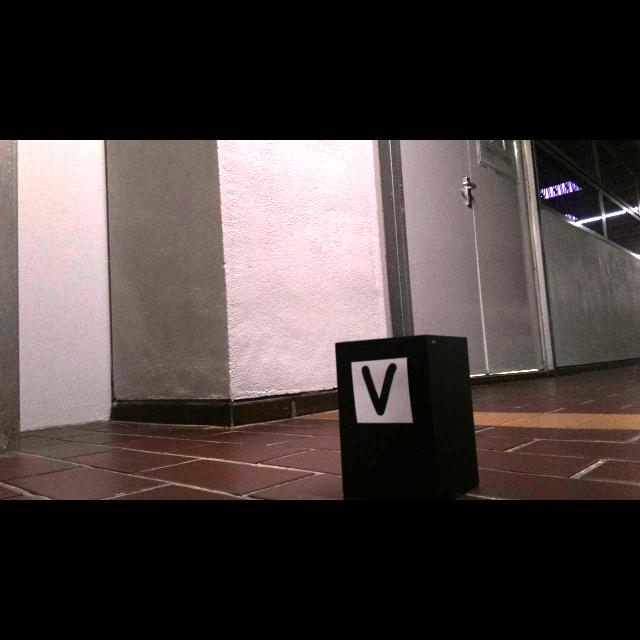V: (362, 363, 397, 416)
